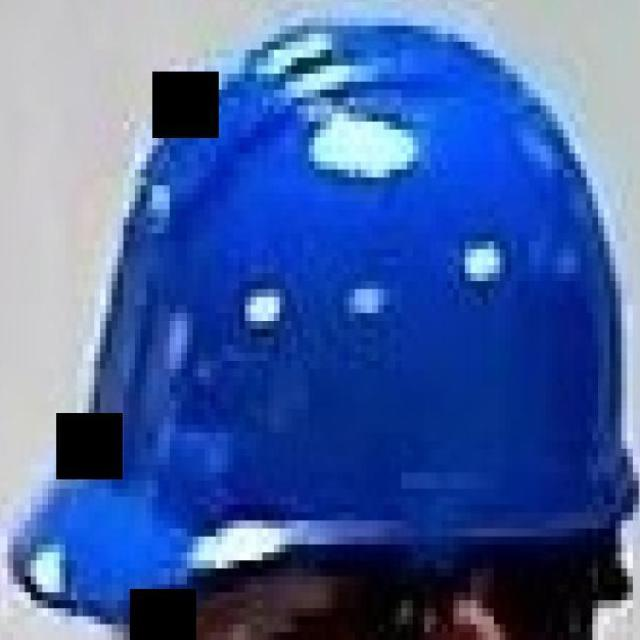helmet: (4, 0, 631, 620)
